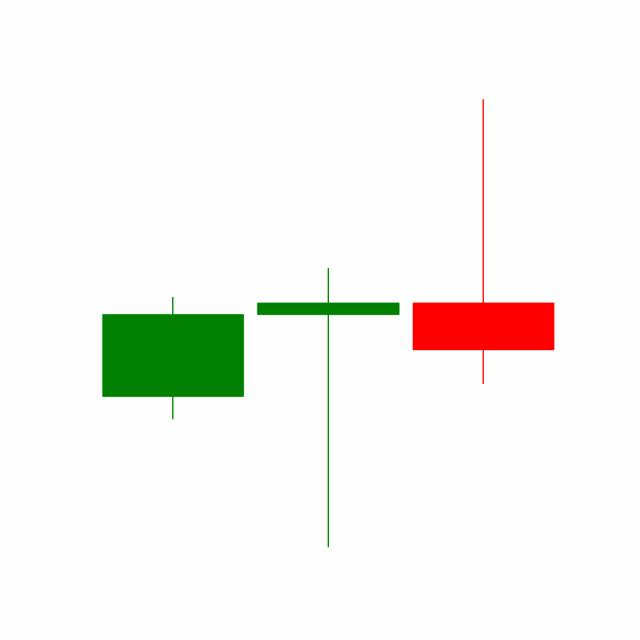Spinning Top: (249, 264, 406, 550)
